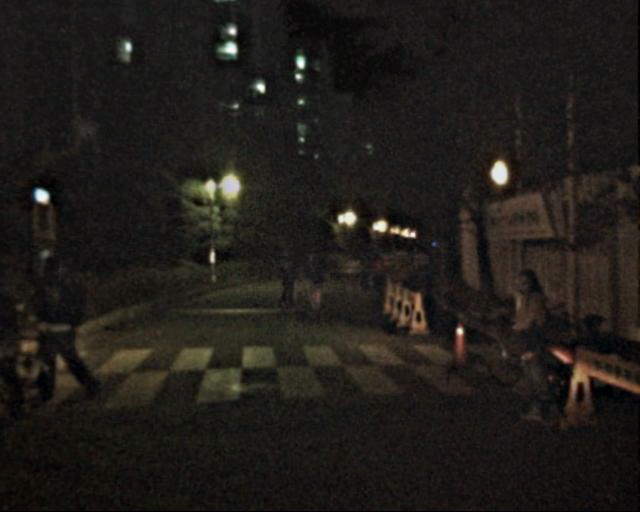person: (499, 267, 566, 431), (33, 247, 94, 396), (269, 247, 298, 318), (295, 249, 323, 318), (353, 248, 376, 304), (363, 250, 386, 306)
